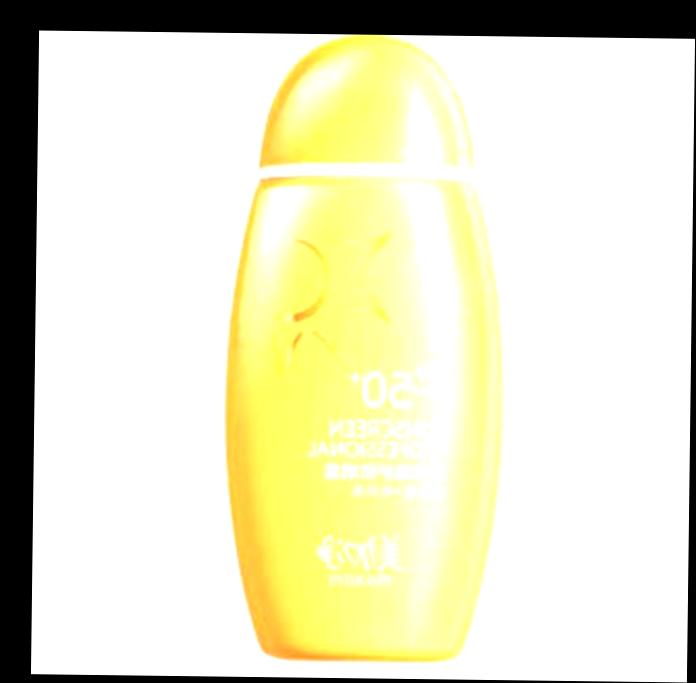cosmetic: (223, 33, 512, 666)
